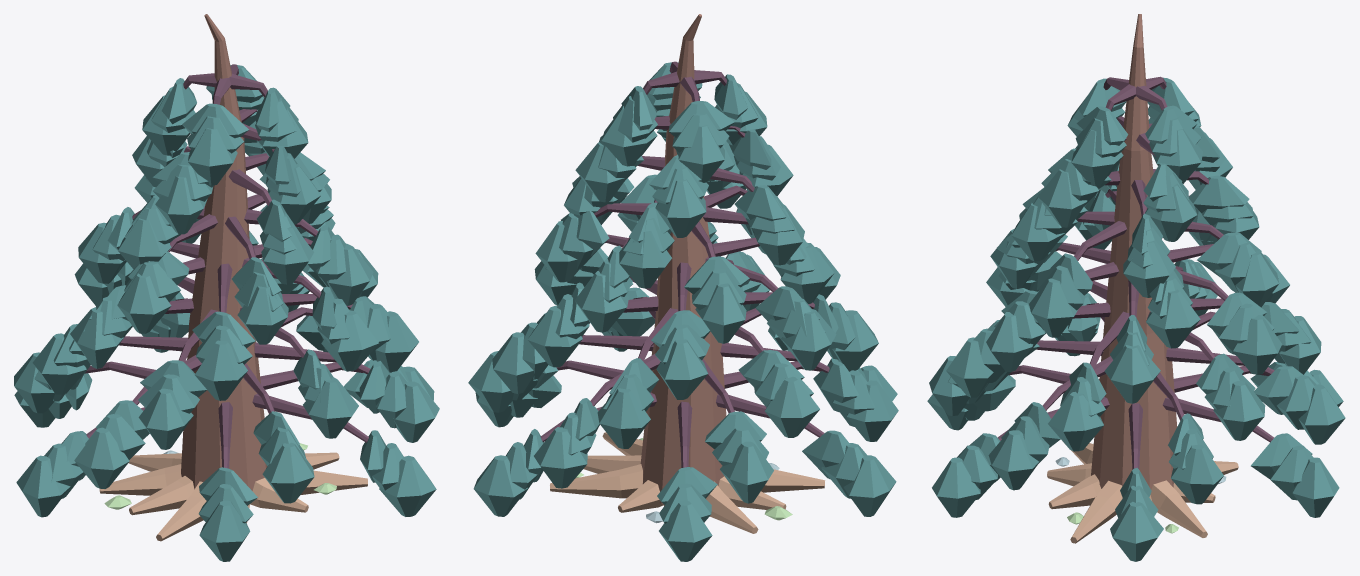
The model's file is lagoon_tree_western_redcedar.glb.
3 views of the same model, side by side, from view 1: azimuth 30°, elevation 25°; view 2: azimuth 150°, elevation 25°; view 3: azimuth 270°, elevation 25° (orthographic). The views are drawn at different scales.
Visible parts, largest first — view 1: lagoon_tree_western_redcedar.001; view 2: lagoon_tree_western_redcedar.001; view 3: lagoon_tree_western_redcedar.001.
Boxes of the visible parts, x1,y1,x2,y2 form: lagoon_tree_western_redcedar.001: [14, 14, 439, 561]; lagoon_tree_western_redcedar.001: [468, 14, 898, 561]; lagoon_tree_western_redcedar.001: [927, 14, 1345, 561].
Bounding box in the file's own units: 8.93 × 9.98 × 8.01.
